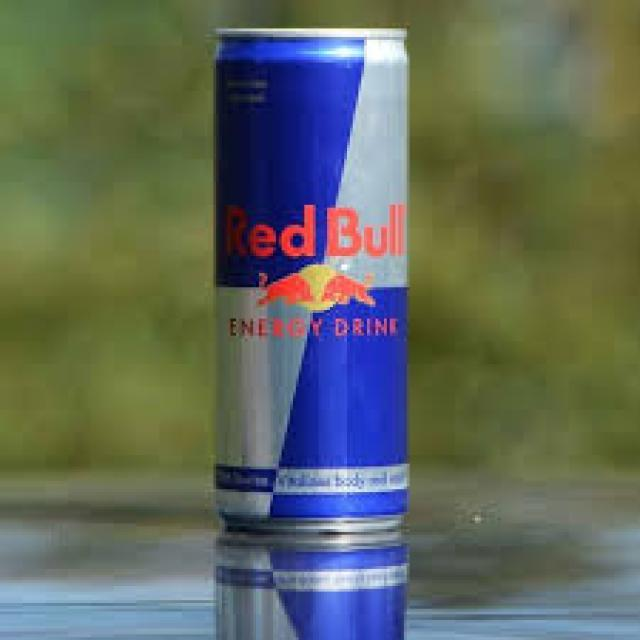red-bull: (208, 21, 414, 540)
